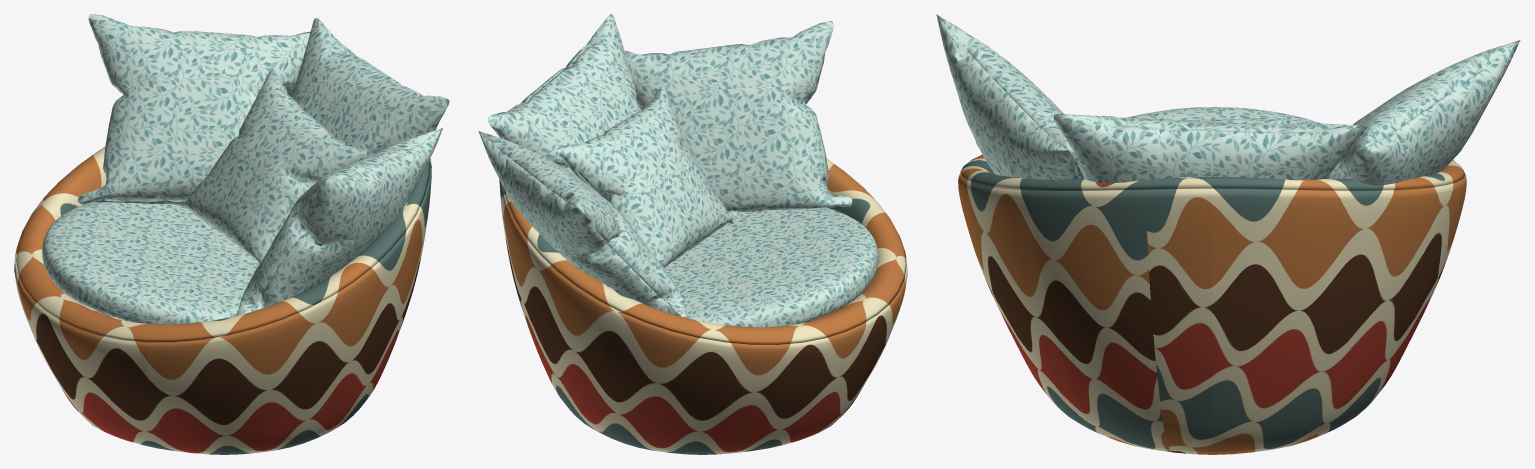
Rendered from single_seater.glb.
3 renders of one model, left to right at view 1: azimuth 30°, elevation 25°; view 2: azimuth 150°, elevation 25°; view 3: azimuth 270°, elevation 25°, orthographic. The views are drawn at different scales.
Visible parts, largest first — view 1: seat_cushion, sofa; view 2: seat_cushion, sofa; view 3: sofa, seat_cushion.
Part boxes in pixels (left/top/right/bottom): seat_cushion: left=42, top=14, right=449, bottom=324; sofa: left=14, top=89, right=431, bottom=454; seat_cushion: left=478, top=14, right=878, bottom=327; sofa: left=499, top=105, right=907, bottom=454; sofa: left=958, top=154, right=1466, bottom=454; seat_cushion: left=936, top=14, right=1520, bottom=185.
Bounding box in the file's own units: 9.84 × 8.48 × 11.72.
Materials: 2 (2 with a texture image).
